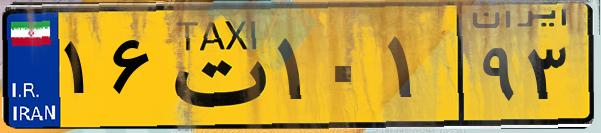0: (330, 28, 385, 110)
1: (270, 28, 330, 110), (385, 28, 445, 110), (57, 26, 110, 100)
3: (525, 38, 570, 115)
6: (110, 28, 158, 98)
9: (475, 38, 525, 113)
ت: (158, 12, 270, 120)
